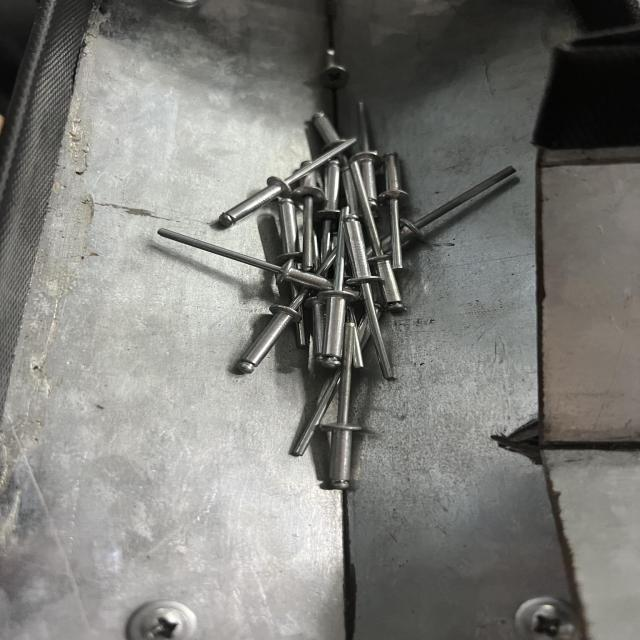rivet: (219, 137, 356, 229), (322, 321, 363, 491)
